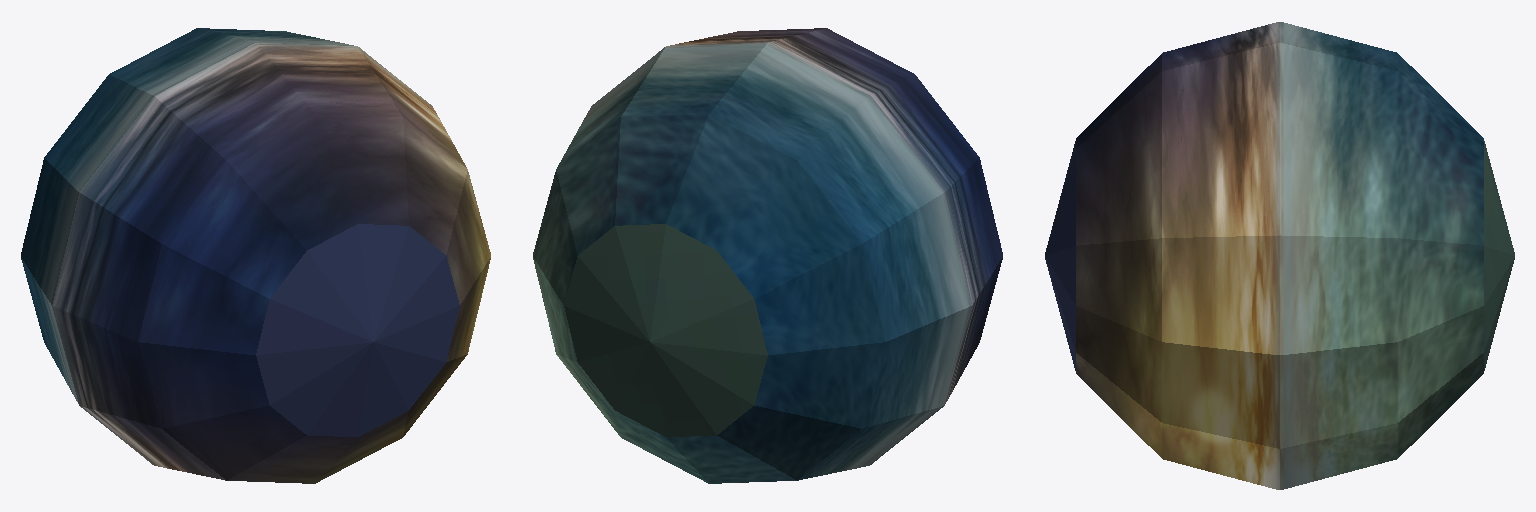
3 views of the same model, side by side, from view 1: azimuth 30°, elevation 25°; view 2: azimuth 150°, elevation 25°; view 3: azimuth 270°, elevation 25° (orthographic).
Visible parts, largest first — view 1: Object01, Object04, Object08, Object06, Object03, Object02; view 2: Object06, Object02, Object07, Object01, Object05, Object04; view 3: Object05, Object03, Object06, Object01, Object07, Object08.
Boxes of the visible parts, x1=… form: Object01: x1=80, y1=43, x2=467, y2=298; Object04: x1=52, y1=192, x2=357, y2=483; Object08: x1=256, y1=224, x2=459, y2=436; Object06: x1=44, y1=28, x2=353, y2=191; Object03: x1=315, y1=171, x2=490, y2=483; Object02: x1=21, y1=158, x2=78, y2=403; Object06: x1=556, y1=43, x2=943, y2=298; Object02: x1=666, y1=192, x2=971, y2=483; Object07: x1=564, y1=224, x2=767, y2=436; Object01: x1=670, y1=28, x2=979, y2=191; Object05: x1=533, y1=171, x2=708, y2=483; Object04: x1=945, y1=158, x2=1002, y2=403; Object05: x1=1280, y1=235, x2=1483, y2=489; Object03: x1=1076, y1=235, x2=1279, y2=489; Object06: x1=1280, y1=22, x2=1483, y2=245; Object01: x1=1076, y1=22, x2=1279, y2=245; Object07: x1=1484, y1=141, x2=1514, y2=370; Object08: x1=1045, y1=141, x2=1075, y2=370.
Size of the model in its own units: 1050 by 1050 by 1050.
6 materials, 6 textured.